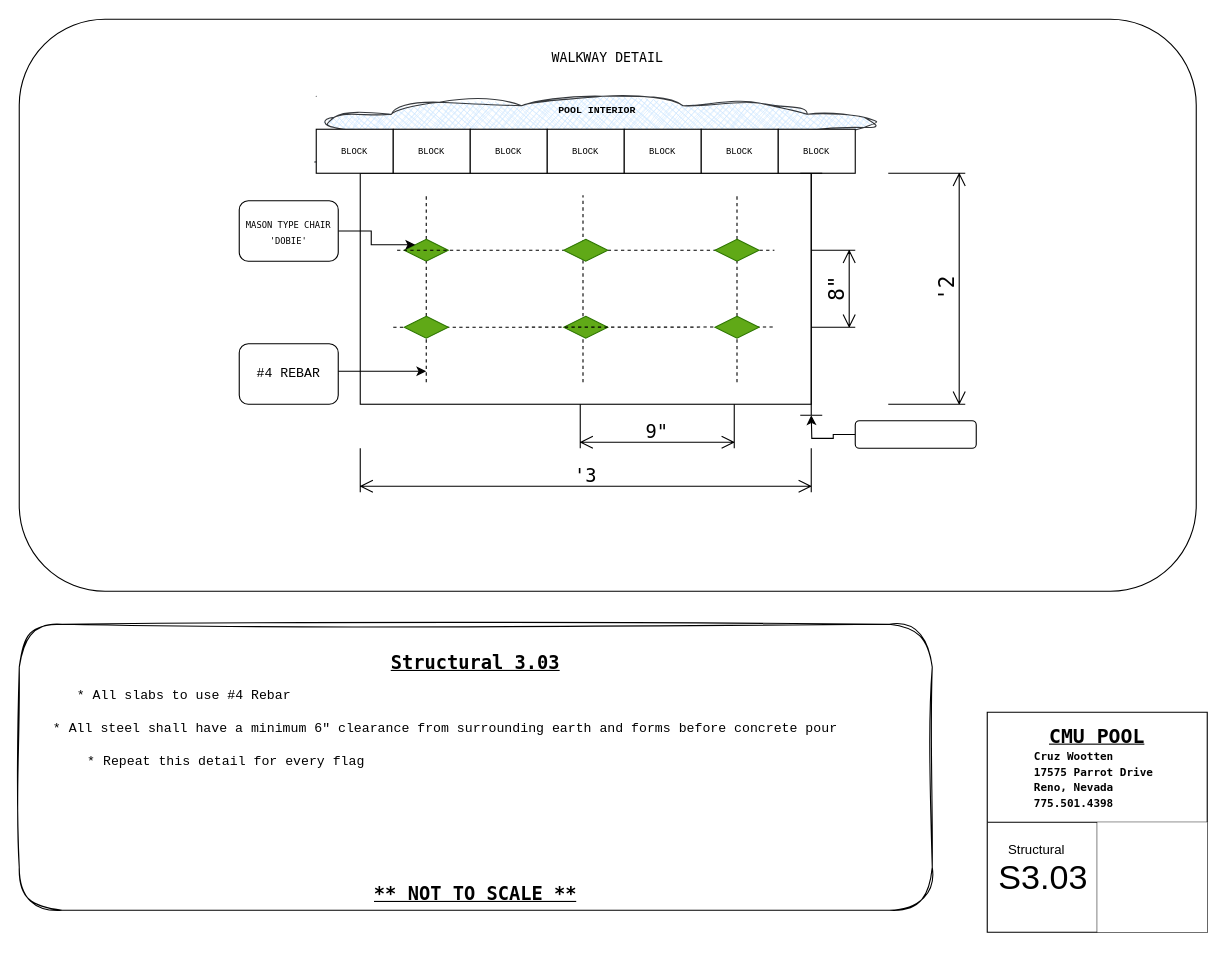
Some shapes in this 1227 by 953 pixel diagram are drawn without their labels. Each missing label, with the centre of its shape:
"Drawing Page 7 / X" goes at (x=1152, y=877).
"EXPANSION JOINT" goes at (x=915, y=434).
